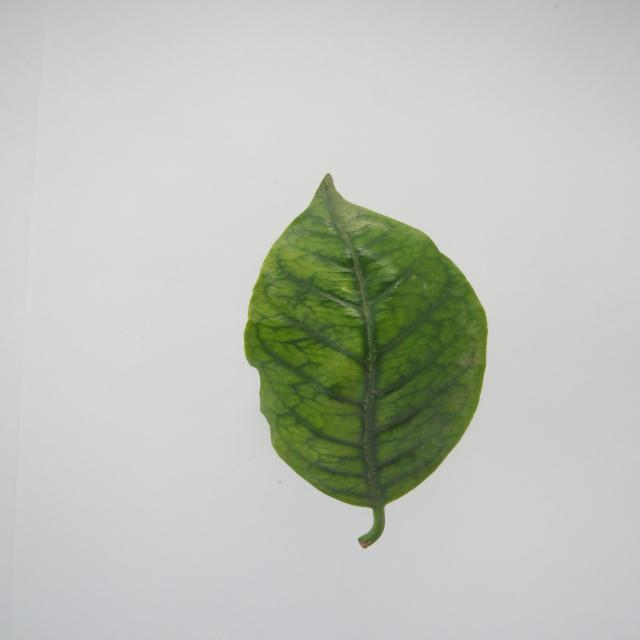DeficienciaNutricional-Manganeso: (245, 175, 487, 548)
